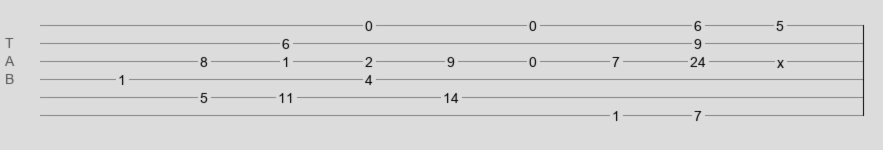0: (365, 18, 373, 28), (529, 54, 537, 64), (529, 18, 537, 28)
1: (118, 72, 126, 82), (282, 54, 290, 64), (612, 108, 620, 118)
11: (278, 90, 294, 100)
14: (443, 90, 459, 100)
2: (365, 54, 373, 64)
24: (690, 54, 706, 64)
4: (365, 72, 373, 82)
5: (200, 90, 208, 100), (776, 18, 784, 28)
6: (282, 36, 290, 46), (694, 18, 702, 28)
7: (612, 54, 620, 64), (694, 108, 702, 118)
8: (200, 54, 208, 64)
9: (447, 54, 455, 64), (694, 36, 702, 46)
x: (777, 55, 784, 63)
